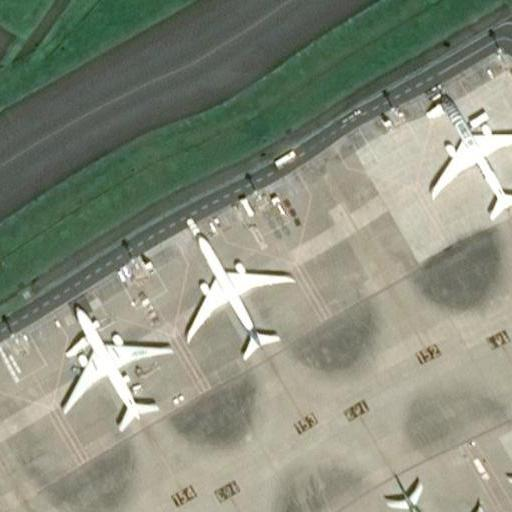Aircraft: (52, 301, 170, 428), (178, 229, 292, 360), (418, 99, 512, 219), (374, 477, 486, 512), (497, 392, 512, 512)
